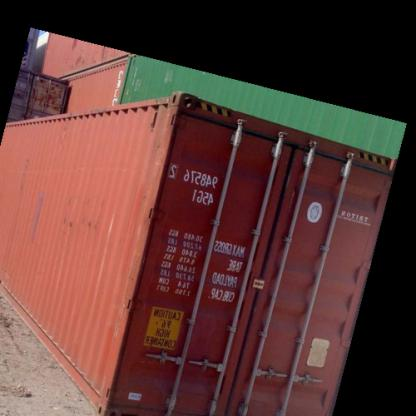Damage: (116, 86, 184, 302)
